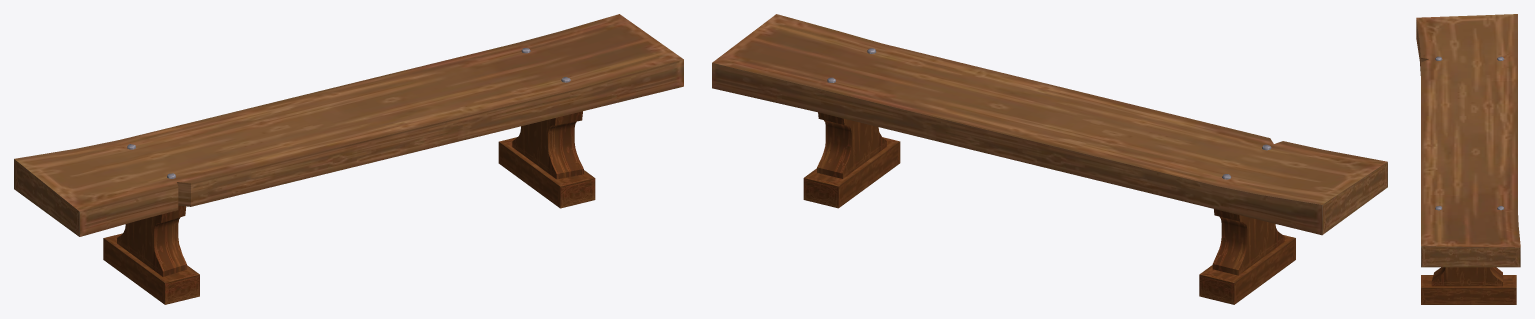
File: bench.glb
The picture shows the model from 3 angles, left to right: view 1: azimuth 30°, elevation 25°; view 2: azimuth 150°, elevation 25°; view 3: azimuth 270°, elevation 25°; orthographic projection. The views are drawn at different scales.
Parts seen in each view (by area): view 1: Bench; view 2: Bench; view 3: Bench.
Part boxes in pixels (<box>): Bench: <box>14,14,683,304</box>; Bench: <box>712,14,1387,304</box>; Bench: <box>1416,14,1520,304</box>.
Size of the model in its own units: 2.78 by 0.5332 by 0.5342.
2 materials, 2 textured.
